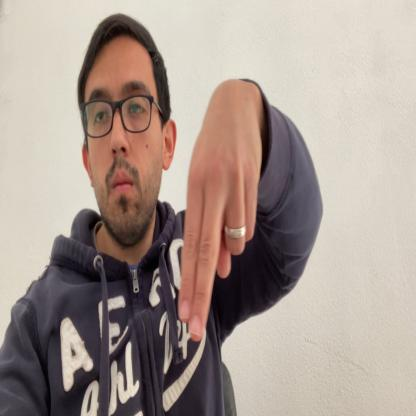N: (178, 84, 263, 342)
